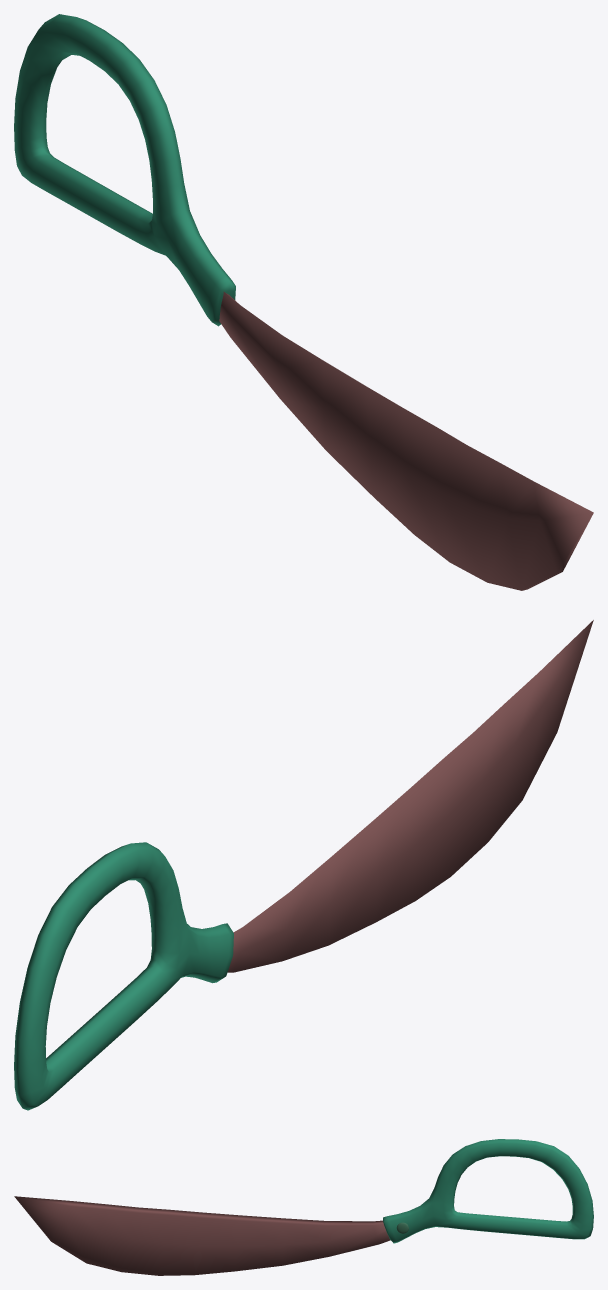
Rendered from ScissorWeapon.glb.
The picture shows the model from 3 angles, top to bottom: view 1: azimuth 30°, elevation 25°; view 2: azimuth 150°, elevation 25°; view 3: azimuth 270°, elevation 25°; orthographic projection. The views are drawn at different scales.
Parts seen in each view (by area): view 1: Cube.008; view 2: Cube.008; view 3: Cube.008.
Part boxes in pixels (x1,y1,x2,y2): Cube.008: (14,14,593,590); Cube.008: (14,620,593,1110); Cube.008: (14,1139,593,1275).
Size of the model in its own units: 0.1722 by 1.73 by 6.66.
Materials: 1 (1 with a texture image).
